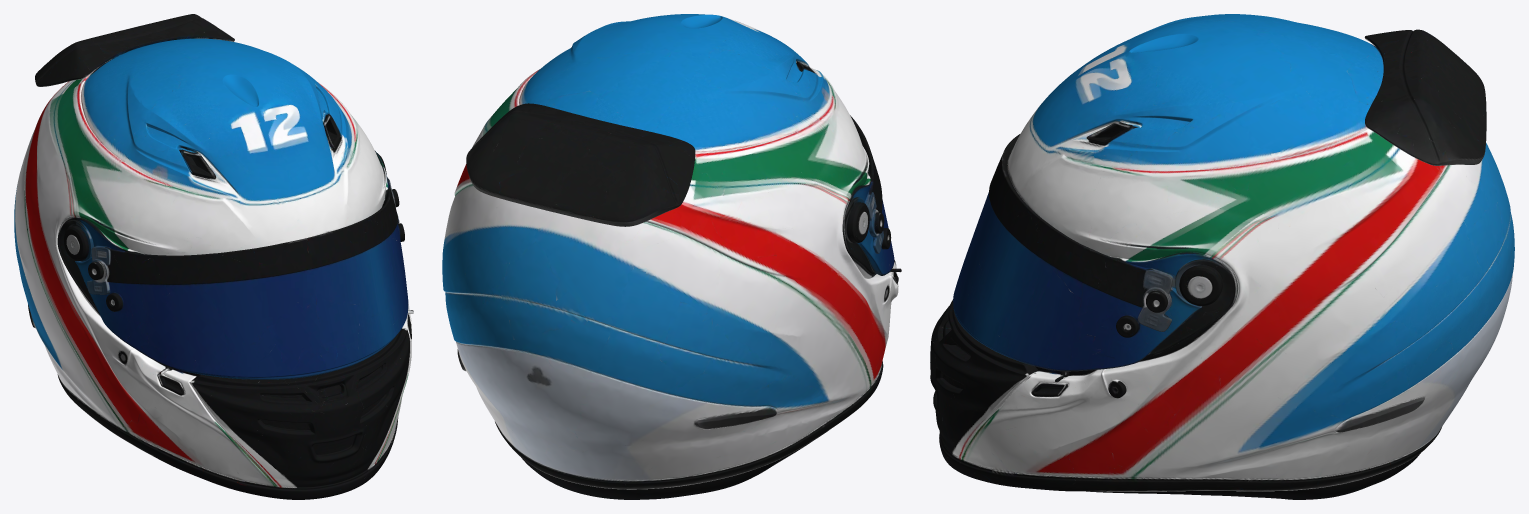
The model's file is helmet.glb.
3 renders of one model, left to right at view 1: azimuth 30°, elevation 25°; view 2: azimuth 150°, elevation 25°; view 3: azimuth 270°, elevation 25°, orthographic. The views are drawn at different scales.
Bounding box in the file's own units: 1.4 × 1.49 × 1.9.
1 material, 1 textured.
